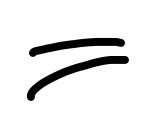eqv: (27, 38, 129, 102)
